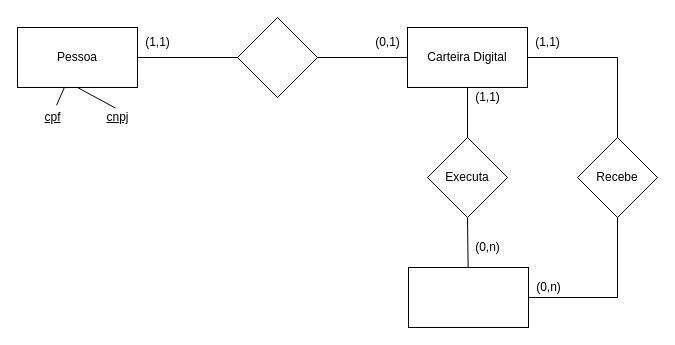
Image size: 675x345. Some labels were removed from this diagram. The shapes that lost their labels are listed below. From the top down, each one's centre as x and y in pixels, then its label:
the point at 277,57: Tem
the point at 468,297: Transação
